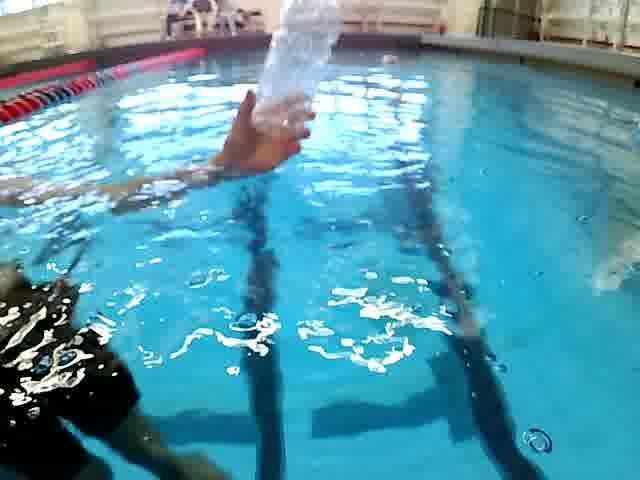Bottle: (241, 0, 349, 151)
